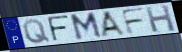A: (100, 10, 128, 38)
F: (120, 7, 146, 36), (46, 15, 71, 43)
H: (144, 4, 177, 34)
M: (69, 11, 104, 42)
Q: (21, 18, 52, 45)
